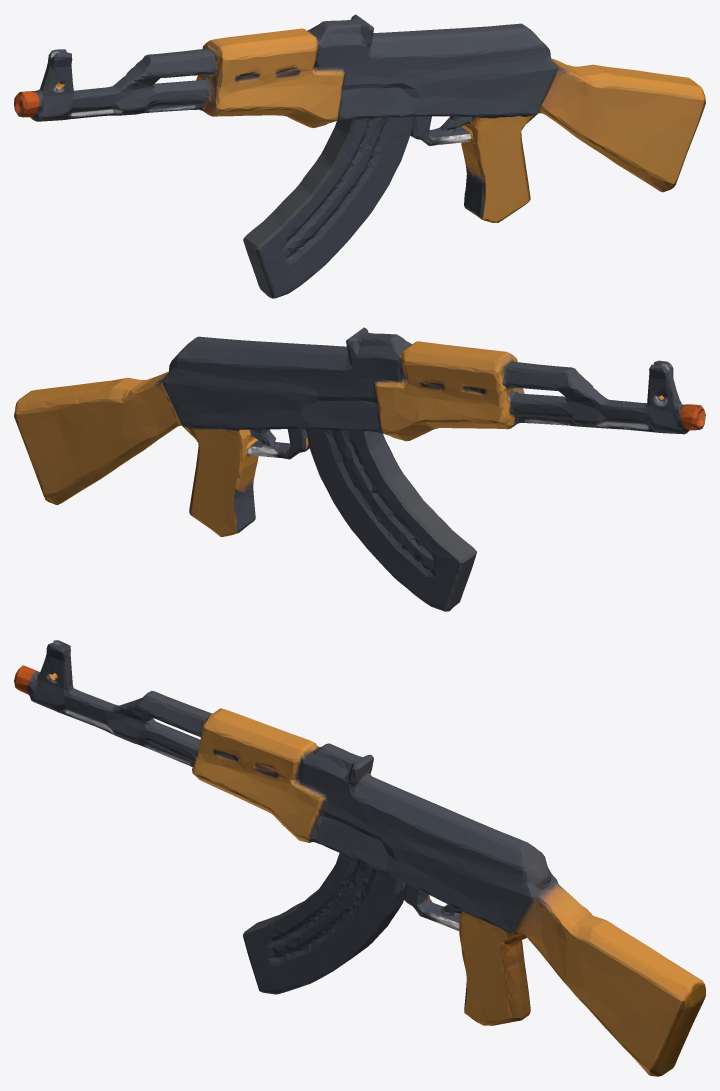
3 renders of one model, top to bottom at view 1: azimuth 30°, elevation 25°; view 2: azimuth 150°, elevation 25°; view 3: azimuth 330°, elevation 25°, orthographic.
Parts seen in each view (by area): view 1: tmpj_gqg_up.ply; view 2: tmpj_gqg_up.ply; view 3: tmpj_gqg_up.ply.
Part boxes in pixels (x1,y1,x2,y2): tmpj_gqg_up.ply: [14, 14, 705, 298]; tmpj_gqg_up.ply: [14, 327, 705, 611]; tmpj_gqg_up.ply: [14, 640, 705, 1076].
Bounding box in the file's own units: 1.99 × 0.8352 × 0.1507.
Materials: 1 (1 with a texture image).
